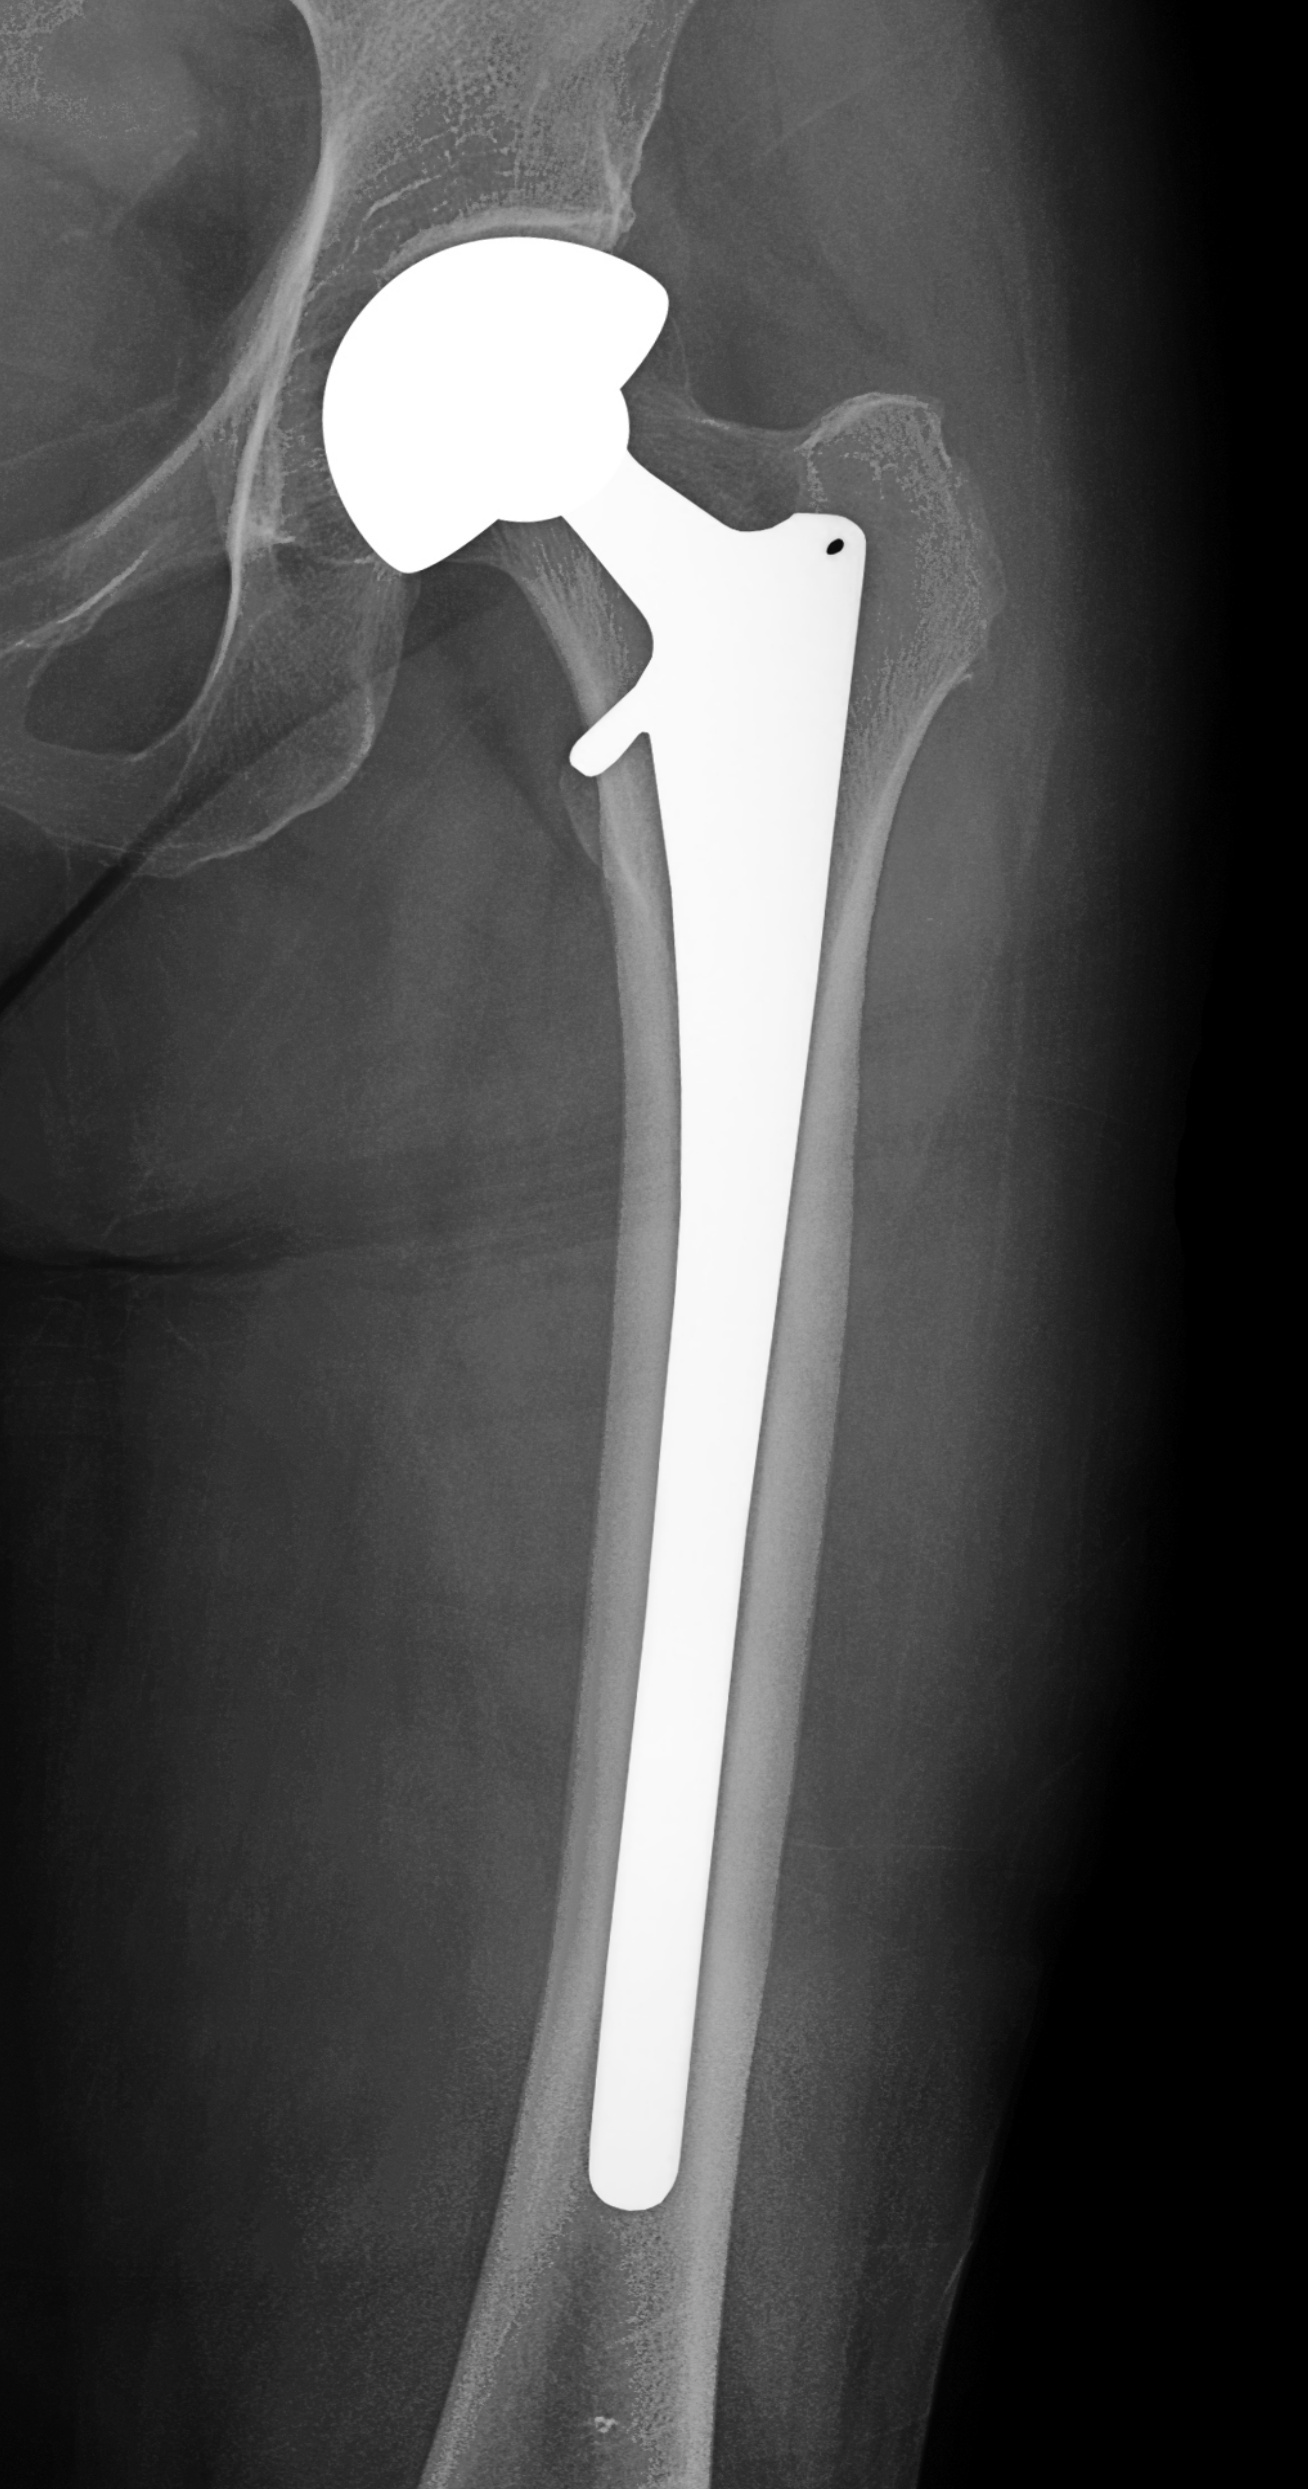Hip - Bias - Zimmer: (265, 160, 943, 2305)
